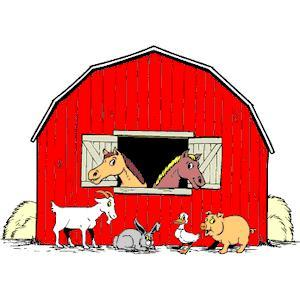bird: (169, 211, 205, 255)
horse: (151, 147, 208, 190), (89, 147, 147, 188)
